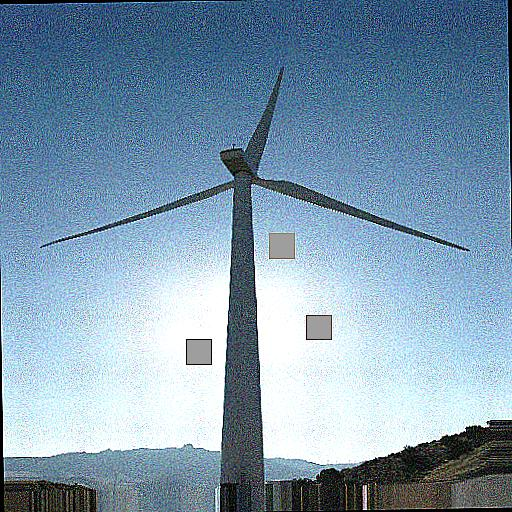wind turbine: (41, 66, 472, 484)
